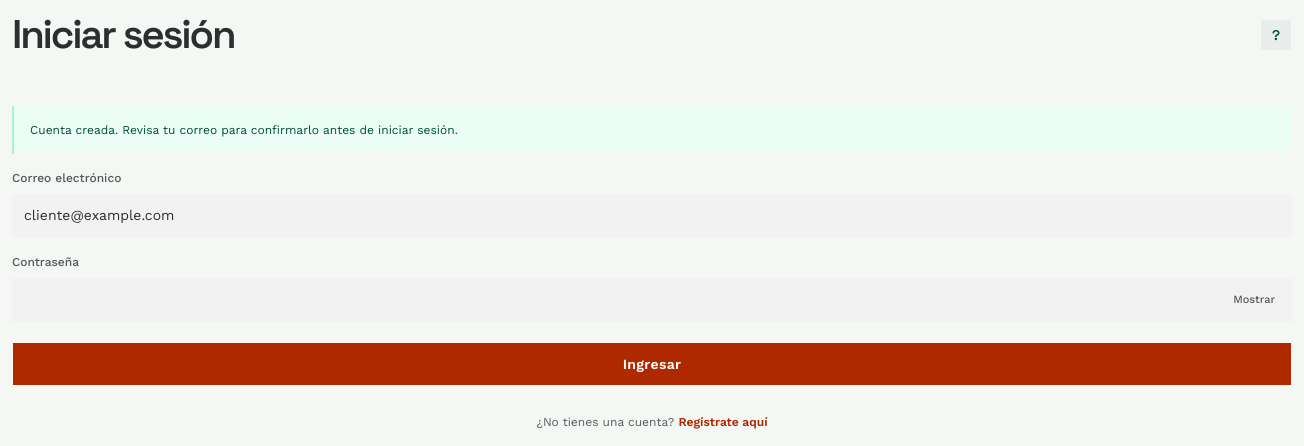
Test case: Login confirmation feedback › replaces the registration success with a single login error
Check: the message shows "Cuenta creada", box 30,123 -> 458,137
Check: the field labelled "Correo electrónico" holds "cliente@example.com", box 12,194 -> 1292,238
Type "Example123!" into the password field labelled "Contraseña" at (652, 300), box 12,278 -> 1292,322
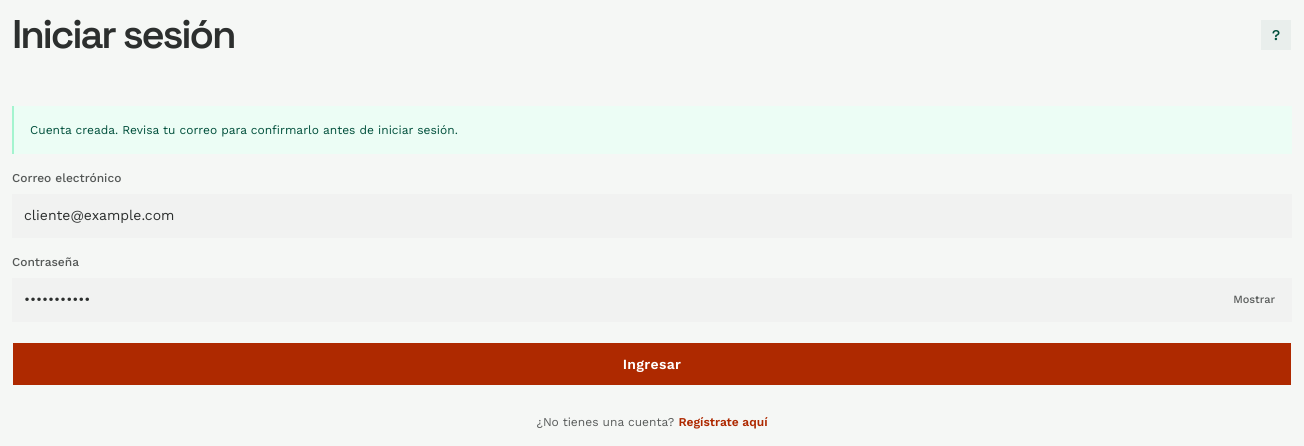
Submit the form named "Ingresar"
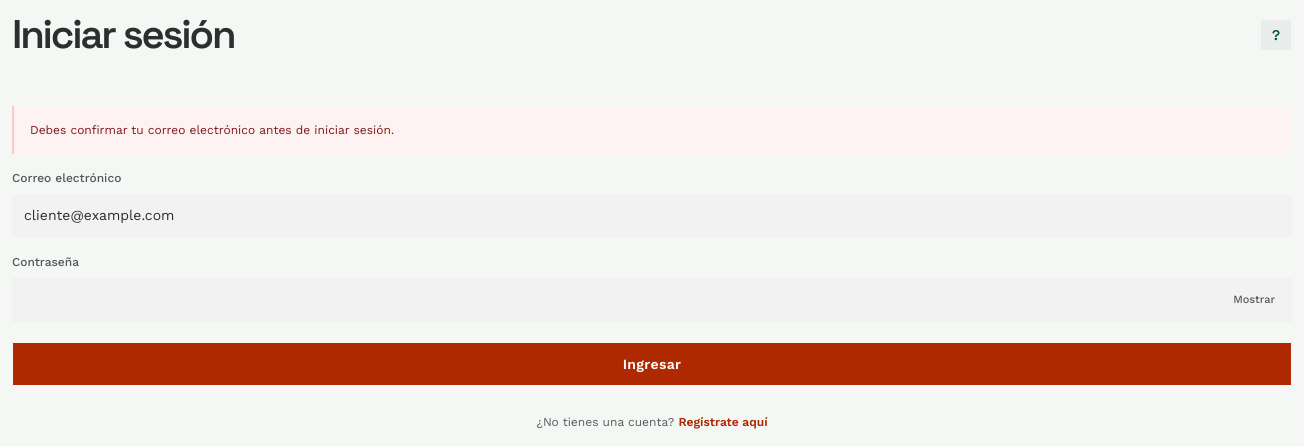
Check: the message shows "Debes confirmar tu correo", box 30,123 -> 394,137
Check: the text "Cuenta creada" is gone
Check: the number of messages is 1, box 12,106 -> 1292,154
